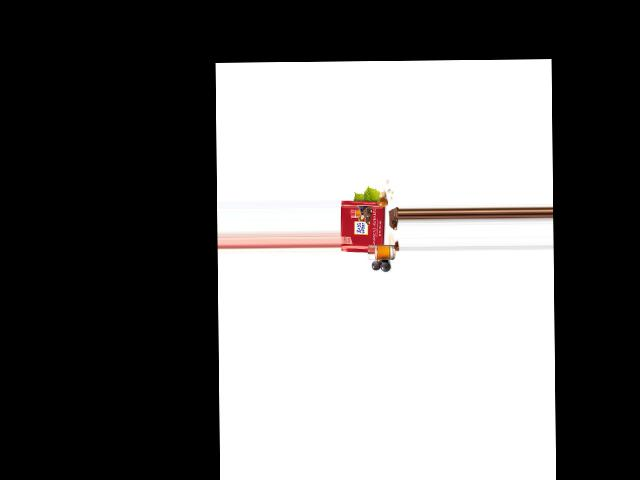chocolate: (341, 198, 385, 251)
